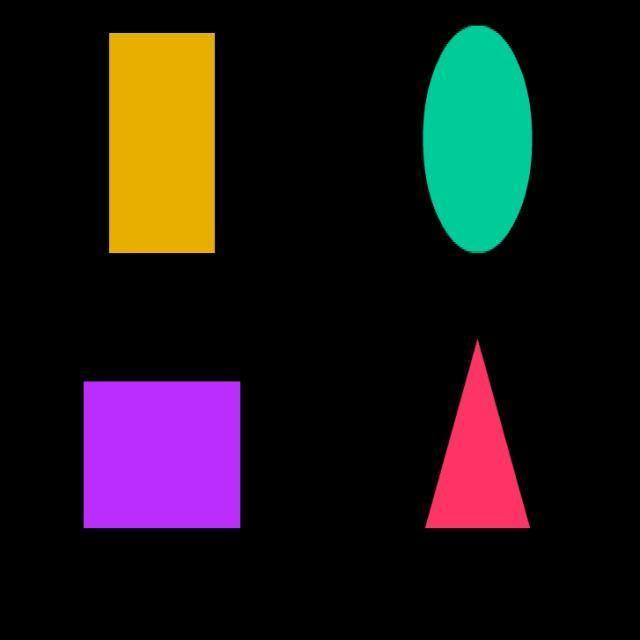circle: (402, 10, 547, 262)
square: (43, 349, 268, 559)
triangle: (400, 305, 544, 555)
